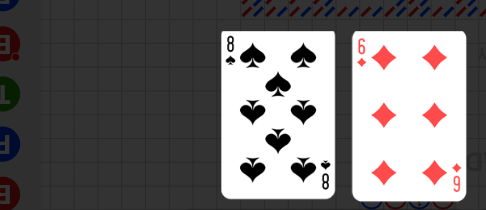10S: (225, 35, 238, 68)
6D: (451, 161, 463, 194)
